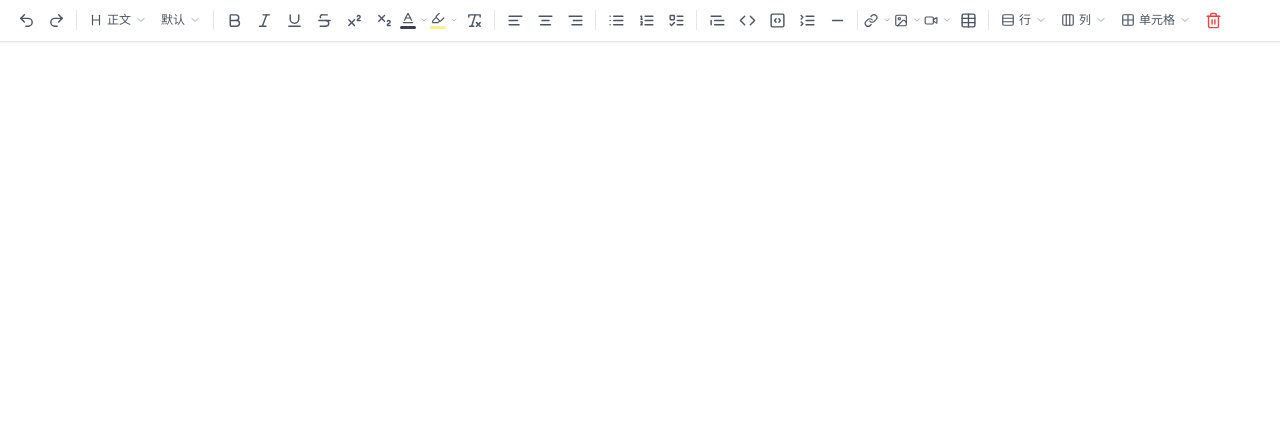
Test case: the table controls › spell out every row operation in words
Click the button named "行操作" at (1024, 20), box [995,6,1053,34]
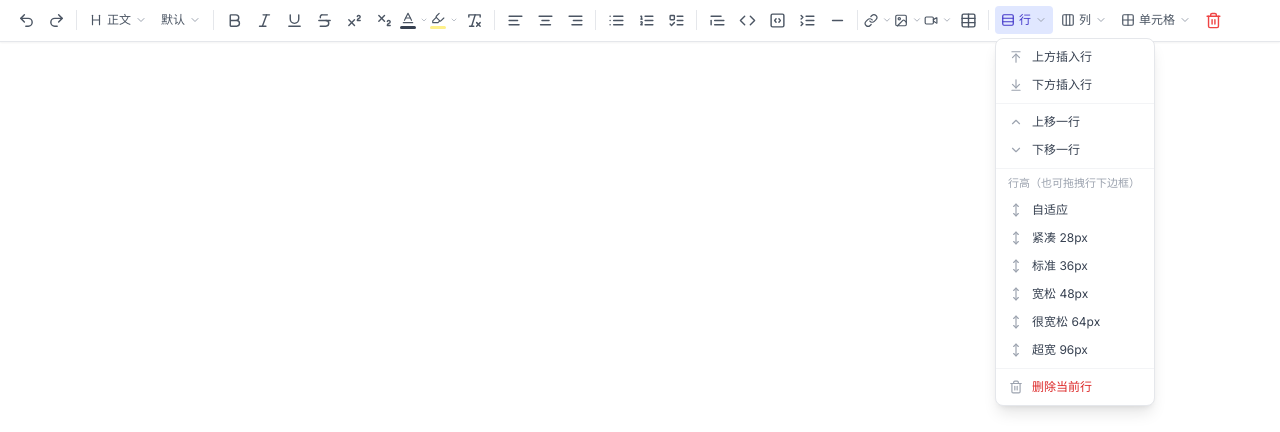
Now the menu item "上方插入行" is shown, box [996,43,1154,71]
Now the menu item "下方插入行" is shown, box [996,71,1154,99]
Now the menu item "上移一行" is shown, box [996,108,1154,136]
